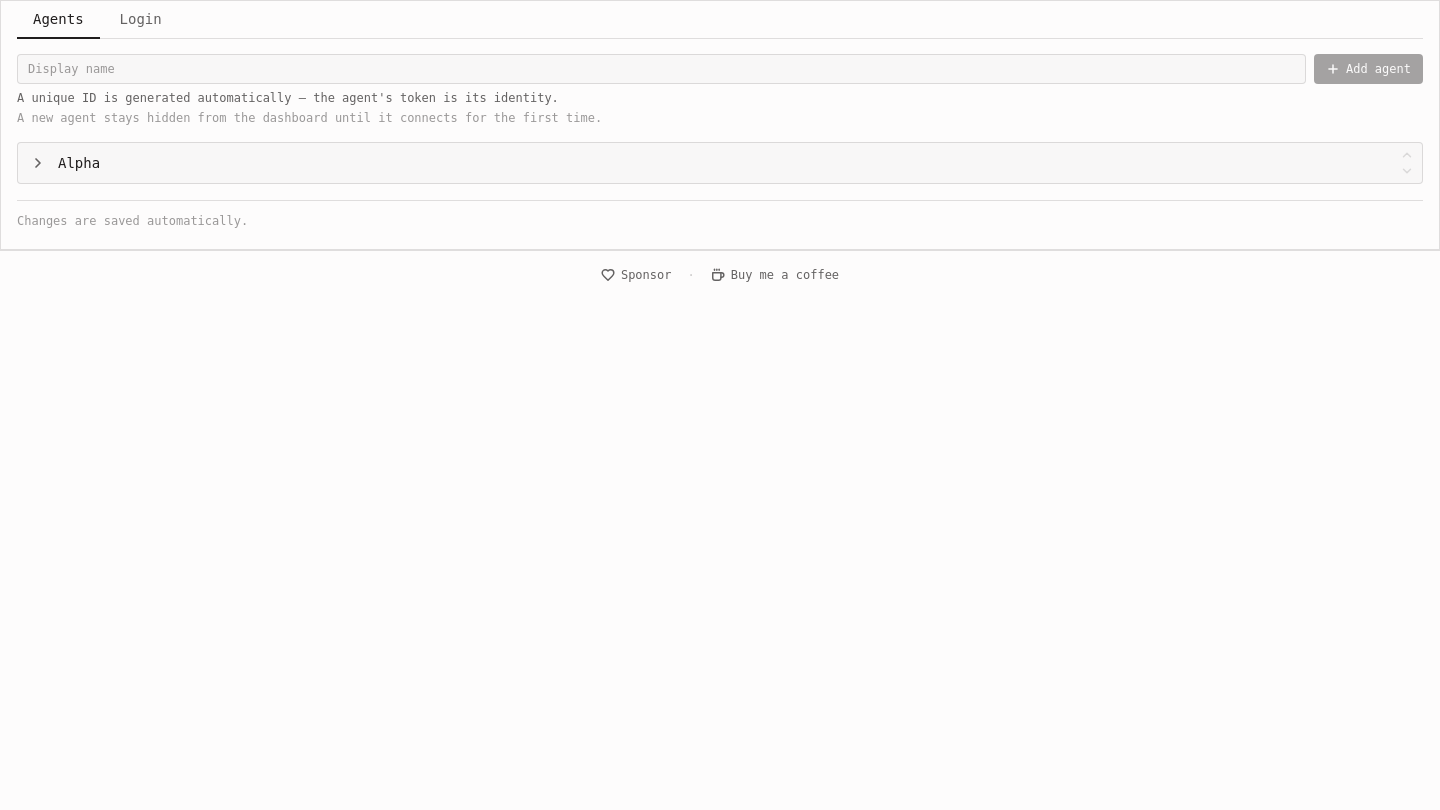
AdminPanel remove confirmation › does not remove until the dialog is confirmed
What coordinates should you click on to do the following:
click the button "Alpha"
I would click on:
 (79, 163)
Its box is 18,143 -> 1400,183.
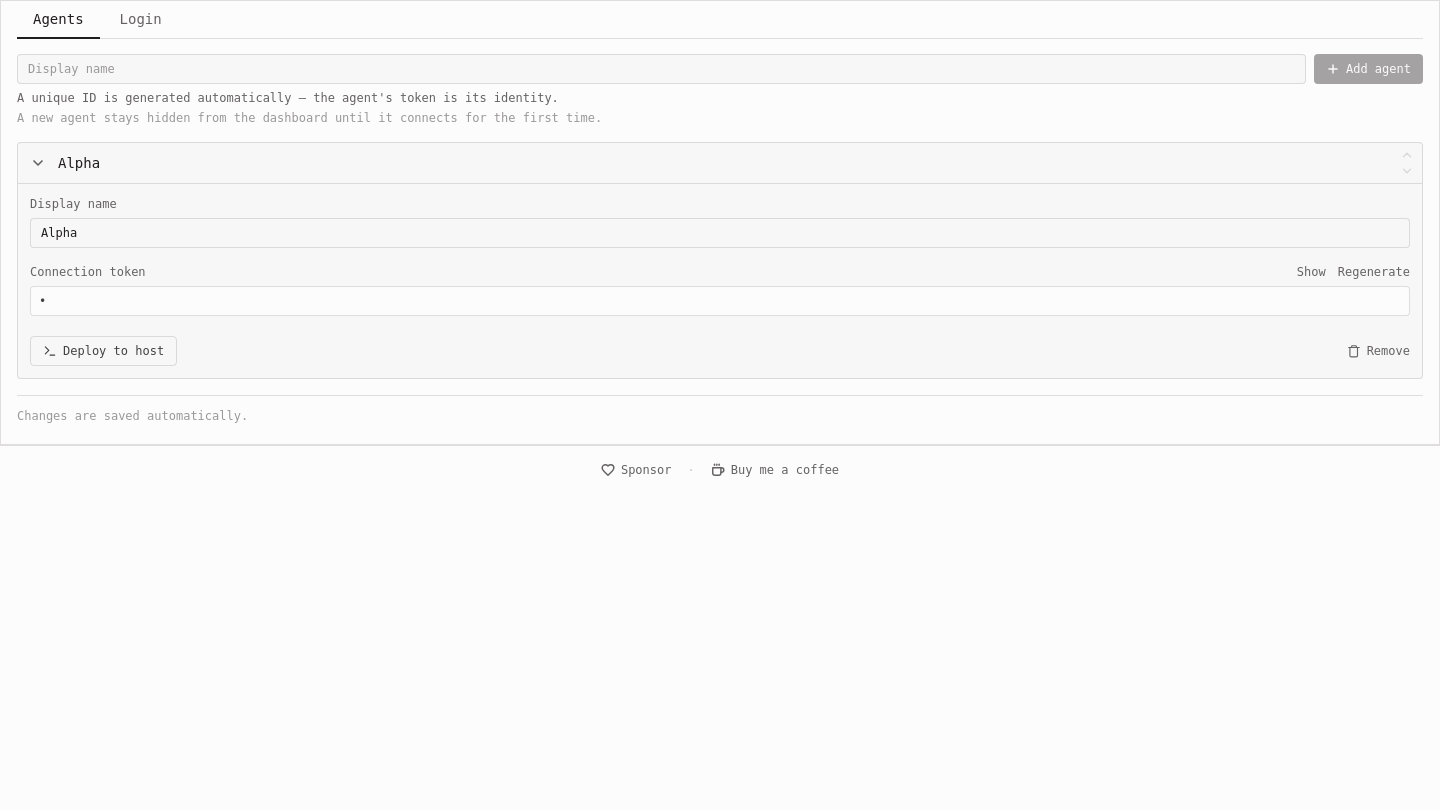
What coordinates should you click on to do the following:
click the button "Remove"
I would click on:
 (1378, 351)
Its box is 1347,343 -> 1410,359.
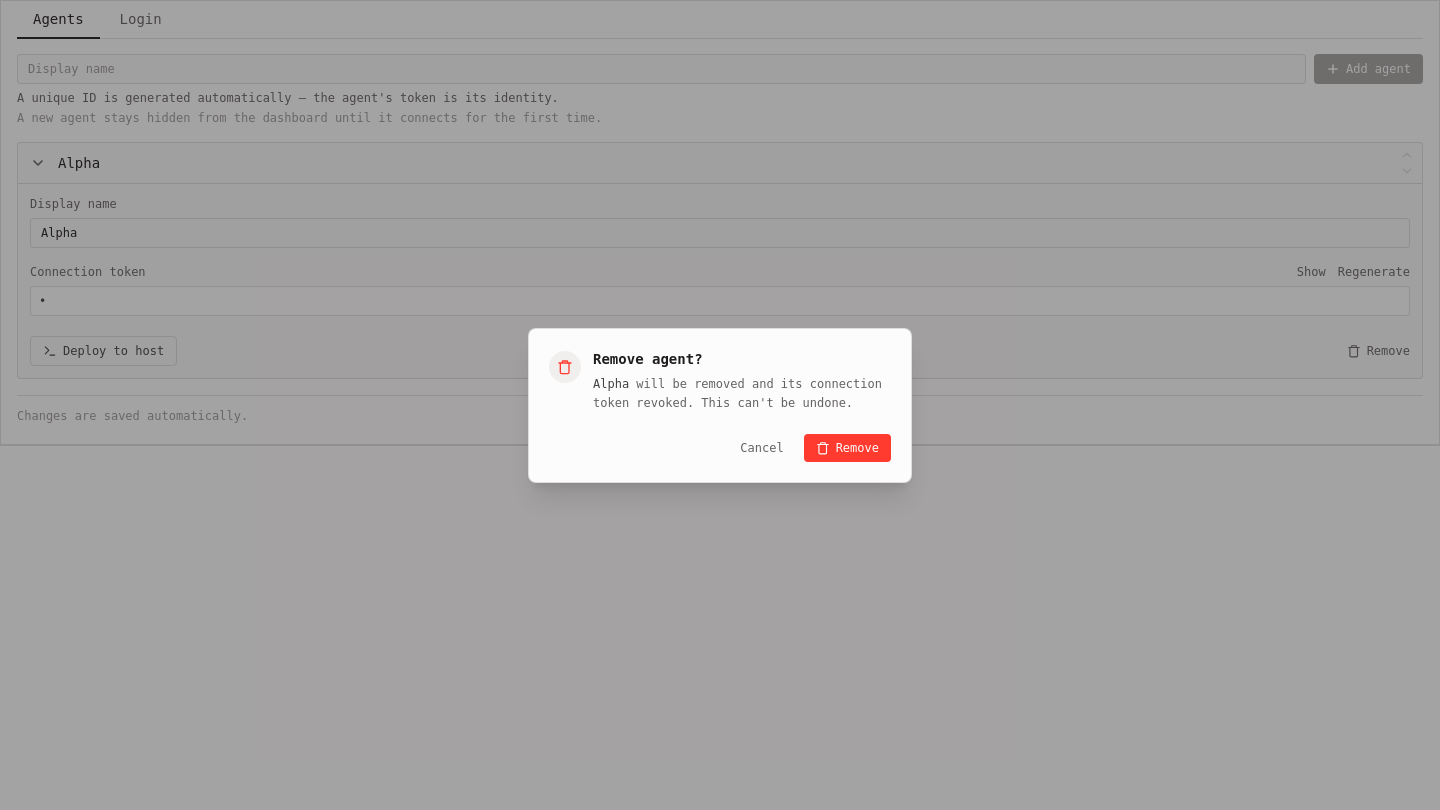
Expected: the dialog is shown
Expected: the dialog shows "Alpha", 593,376 -> 629,390
